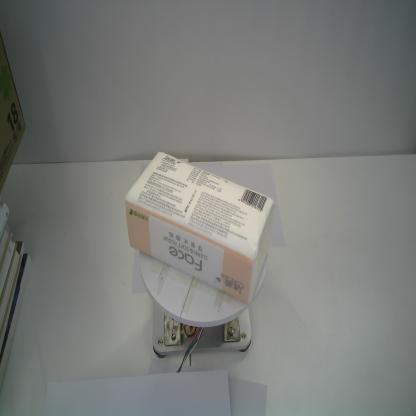Tissue: (124, 150, 276, 305)
